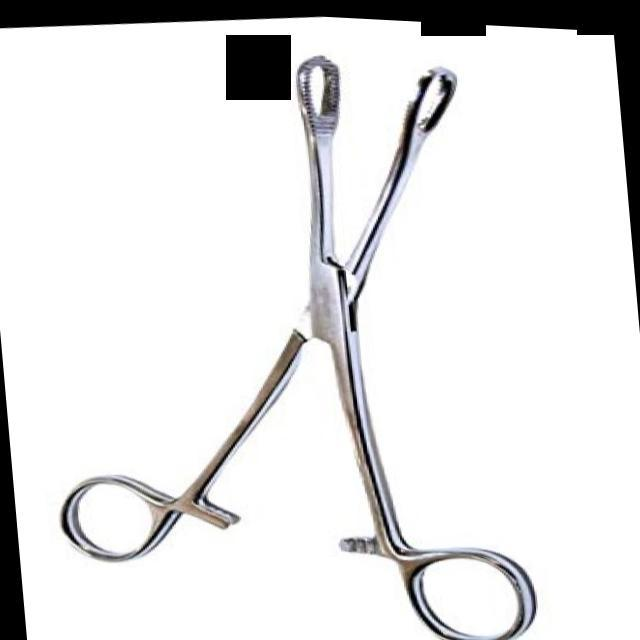Sponge Holding Forceps: (11, 14, 550, 640)
